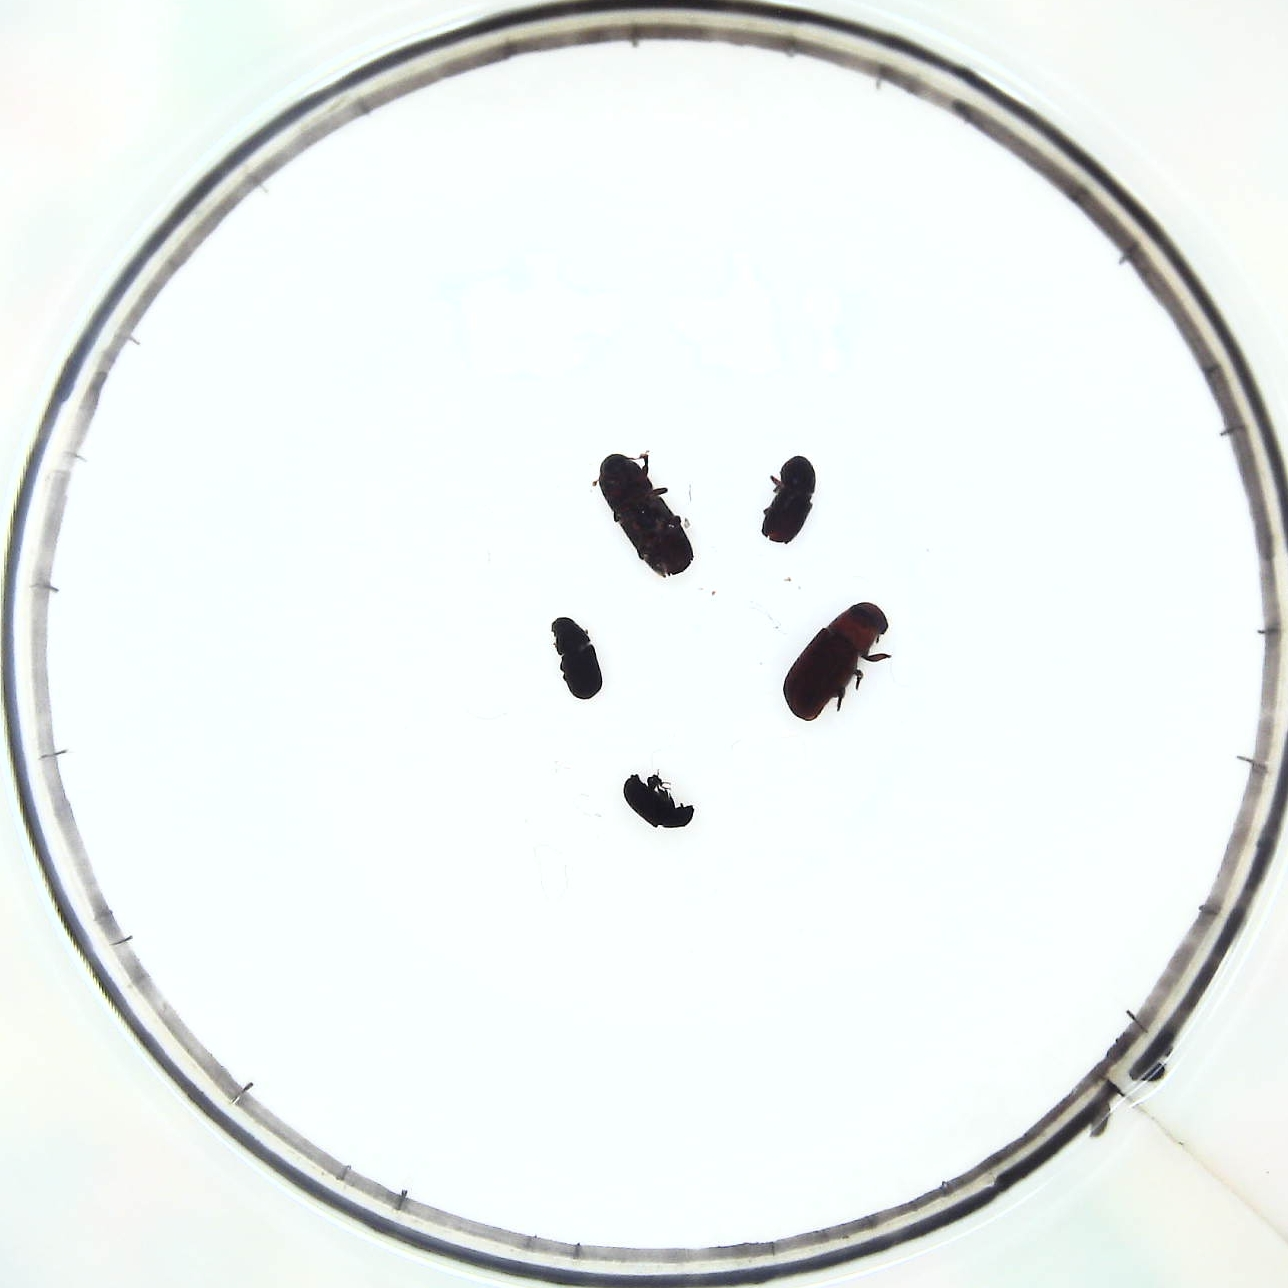Boerner: (591, 451, 696, 584)
Leconte: (783, 596, 905, 727)
armandi: (544, 611, 605, 707)
coleoptera: (615, 767, 698, 837)
linnaeus: (754, 448, 820, 548)
